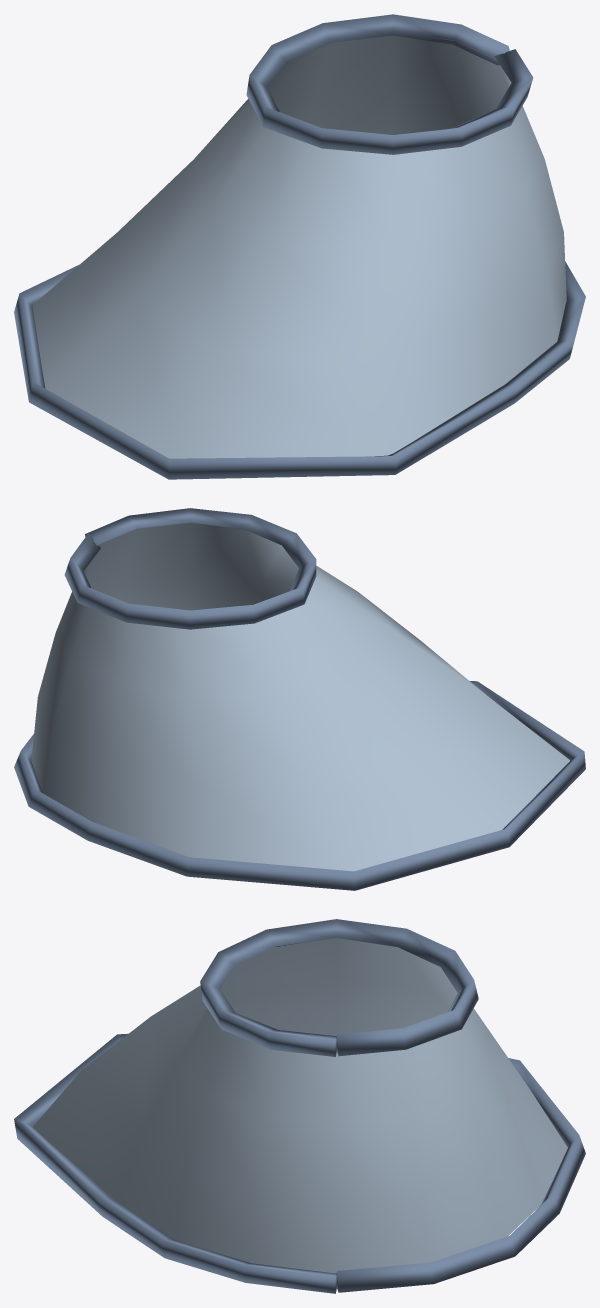
The model's file is titanium_armor_pauldron.R.glb.
The picture shows the model from 3 angles, top to bottom: view 1: azimuth 30°, elevation 25°; view 2: azimuth 150°, elevation 25°; view 3: azimuth 270°, elevation 25°; orthographic projection. The views are drawn at different scales.
Visible parts, largest first — view 1: titanium_armor_pauldron.R; view 2: titanium_armor_pauldron.R; view 3: titanium_armor_pauldron.R.
Part boxes in pixels (x1,y1,x2,y2): titanium_armor_pauldron.R: (14,14,585,479); titanium_armor_pauldron.R: (14,508,585,890); titanium_armor_pauldron.R: (14,919,585,1293).
Size of the model in its own units: 0.3788 by 0.1646 by 0.3604.
